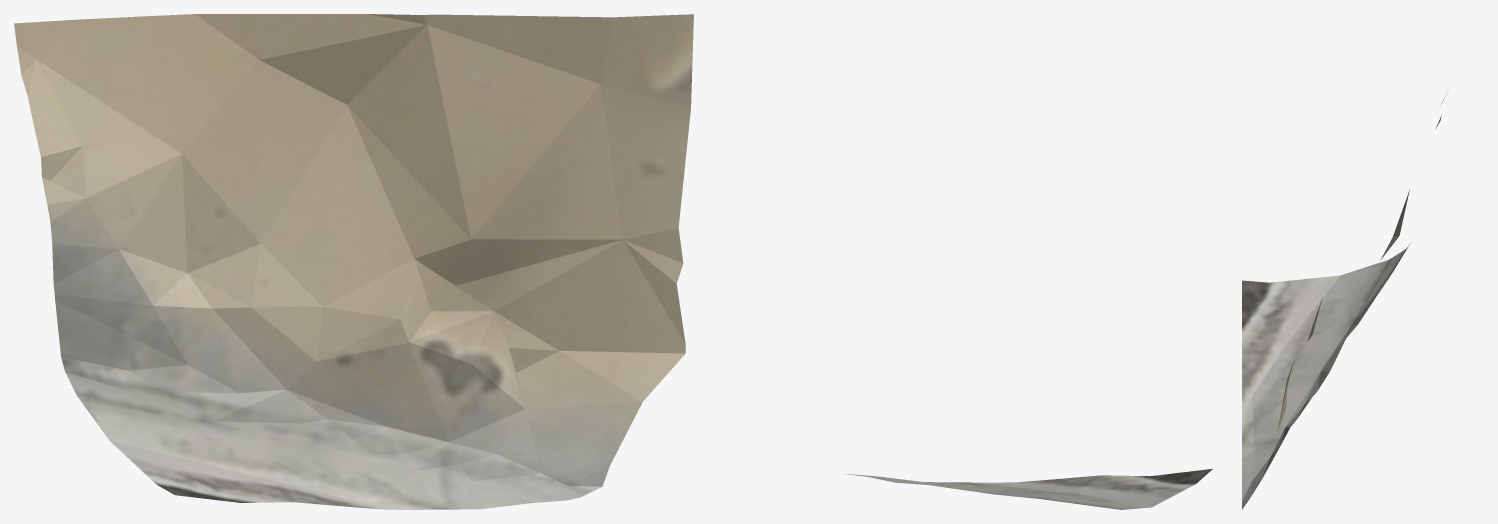
The picture shows the model from 3 angles, left to right: view 1: azimuth 30°, elevation 25°; view 2: azimuth 150°, elevation 25°; view 3: azimuth 270°, elevation 25°; orthographic projection. The views are drawn at different scales.
Bounding box in the file's own units: 1.6 × 1.34 × 0.86.
2 materials, 2 textured.
